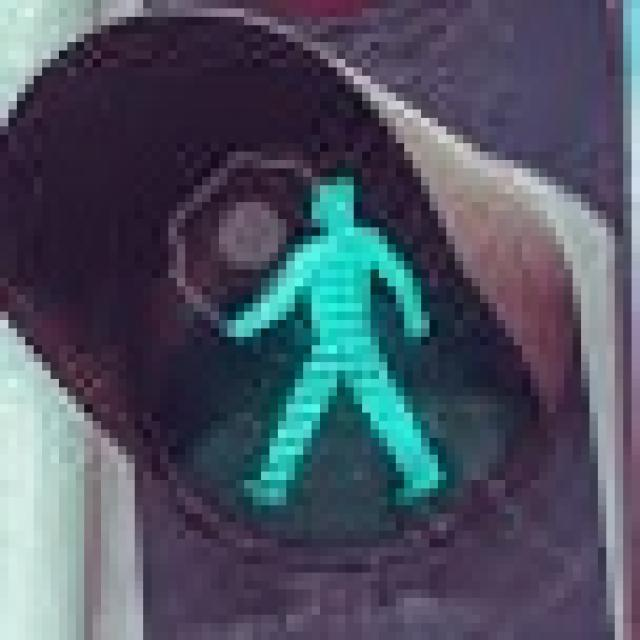geen-crossing: (185, 143, 463, 514)
